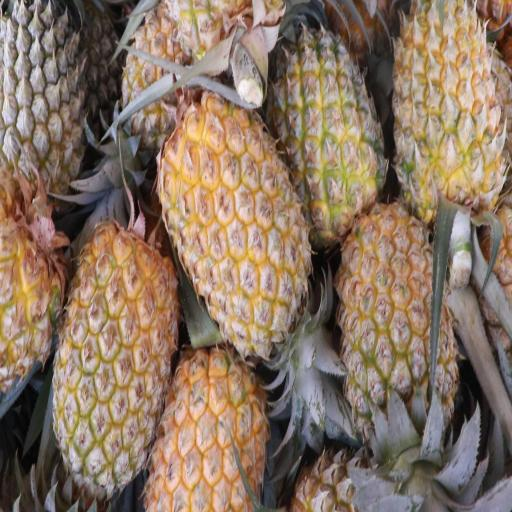------------------------------: (265, 5, 393, 255)
Pineapple - v8 v1: (147, 84, 308, 383), (331, 190, 462, 504), (50, 206, 182, 506), (384, 2, 511, 256), (140, 329, 268, 512)
